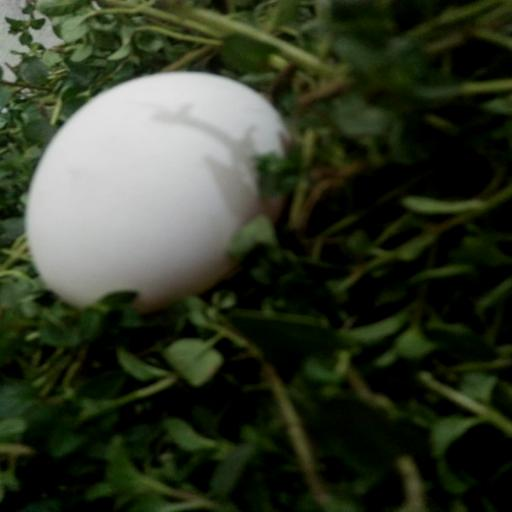telur: (11, 62, 304, 328)
